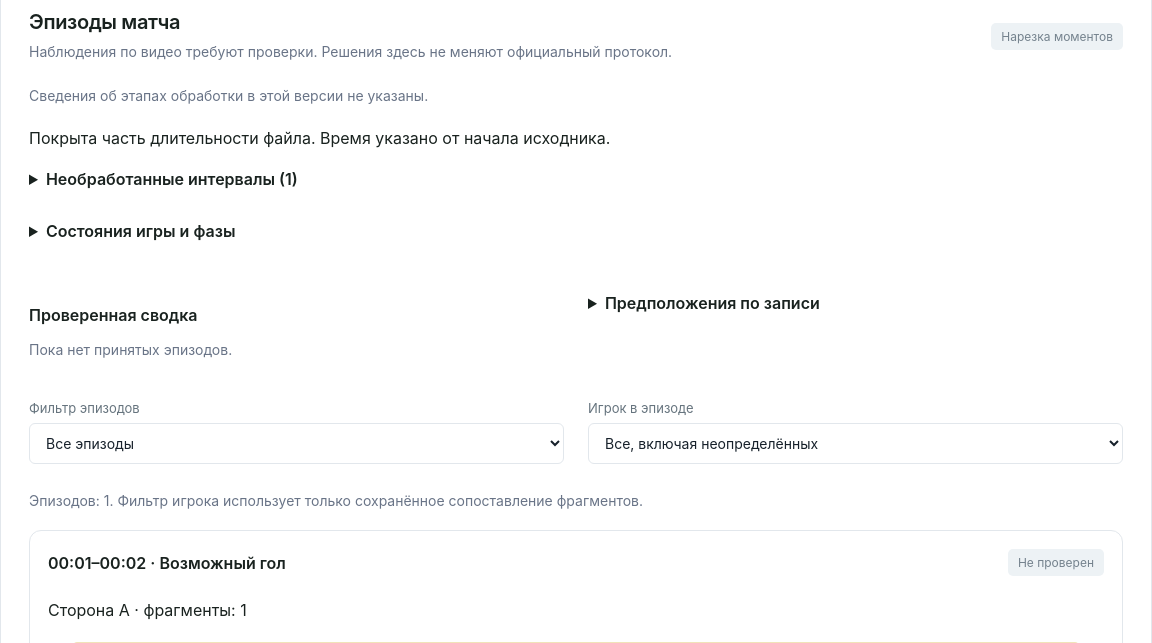
keeps phases visible separately and makes the entire timeline inspectable
Click the heading "Состояния игры и фазы" at (141, 231), box x1=46 y1=221 x2=235 y2=241
(page scrolled)
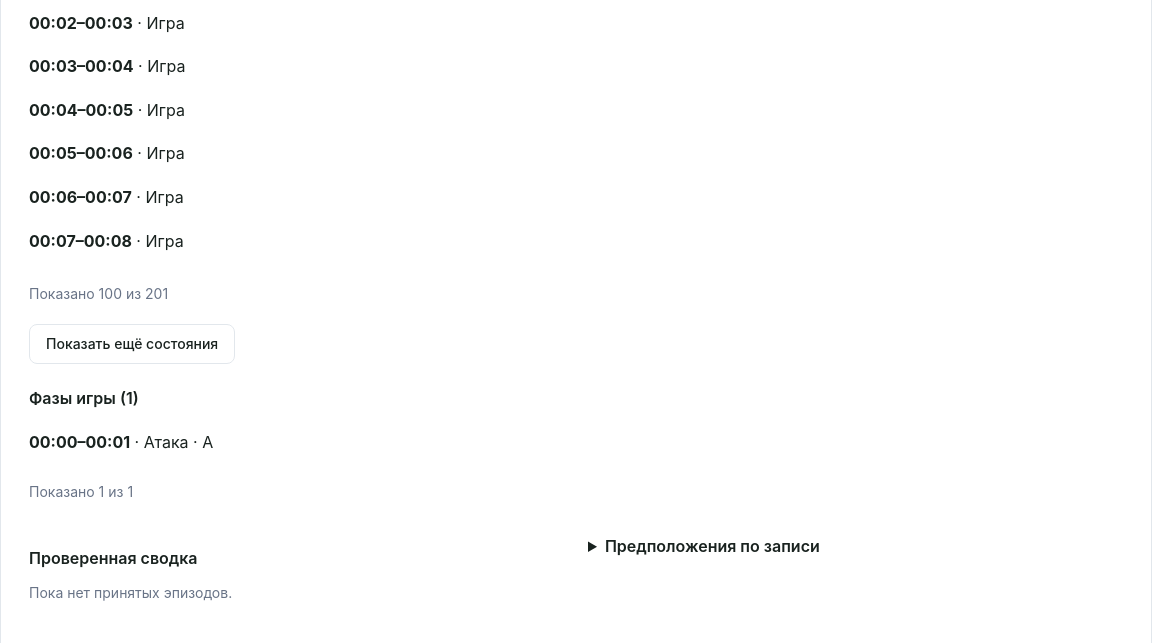
Expected: the text "00:00–00:01 · Атака · A" is shown, x1=29 y1=432 x2=213 y2=452
Click the button "Показать ещё состояния" at (132, 344), box x1=29 y1=324 x2=235 y2=364
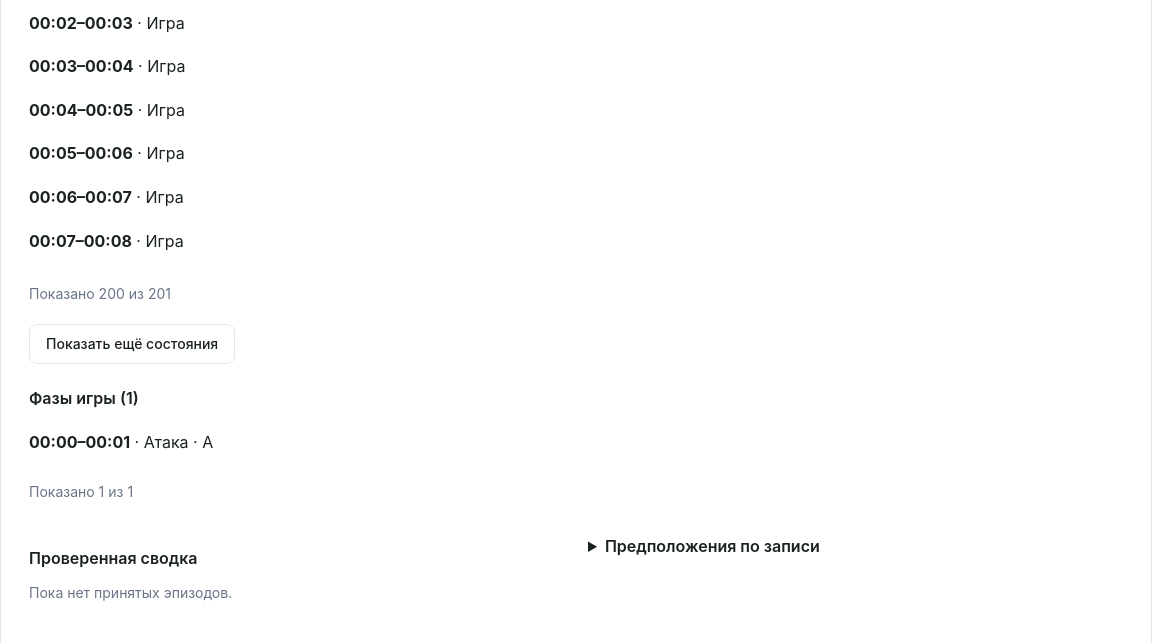
Click the button "Показать ещё состояния" at (132, 344), box x1=29 y1=324 x2=235 y2=364
(page scrolled)
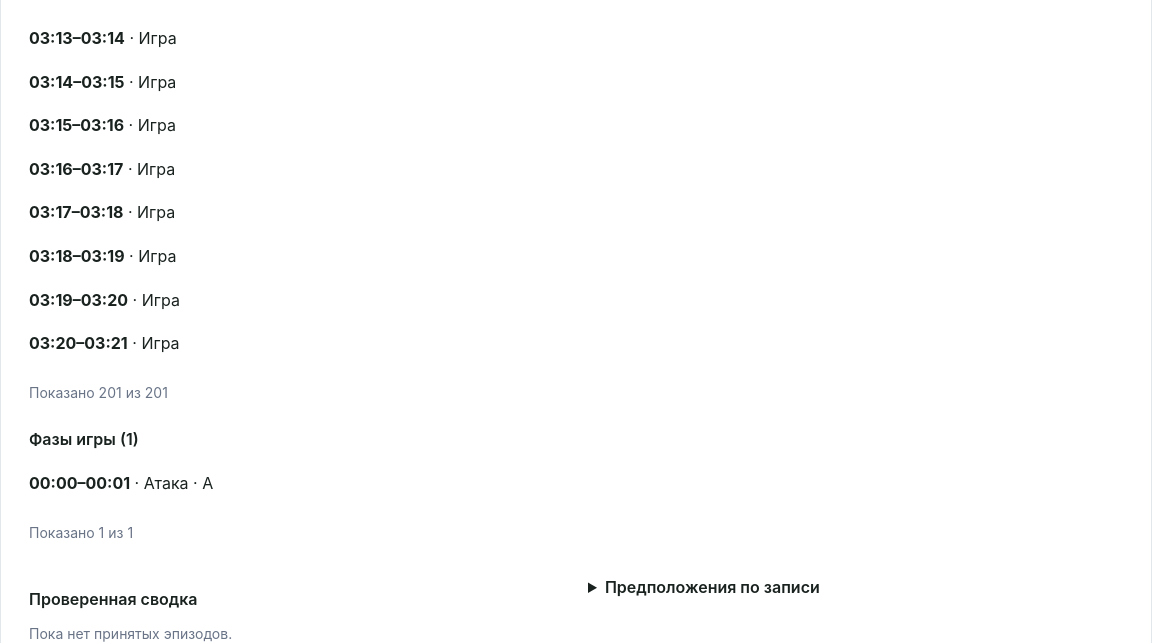
Expected: the text "03:20–03:21" is shown, x1=29 y1=333 x2=128 y2=353
